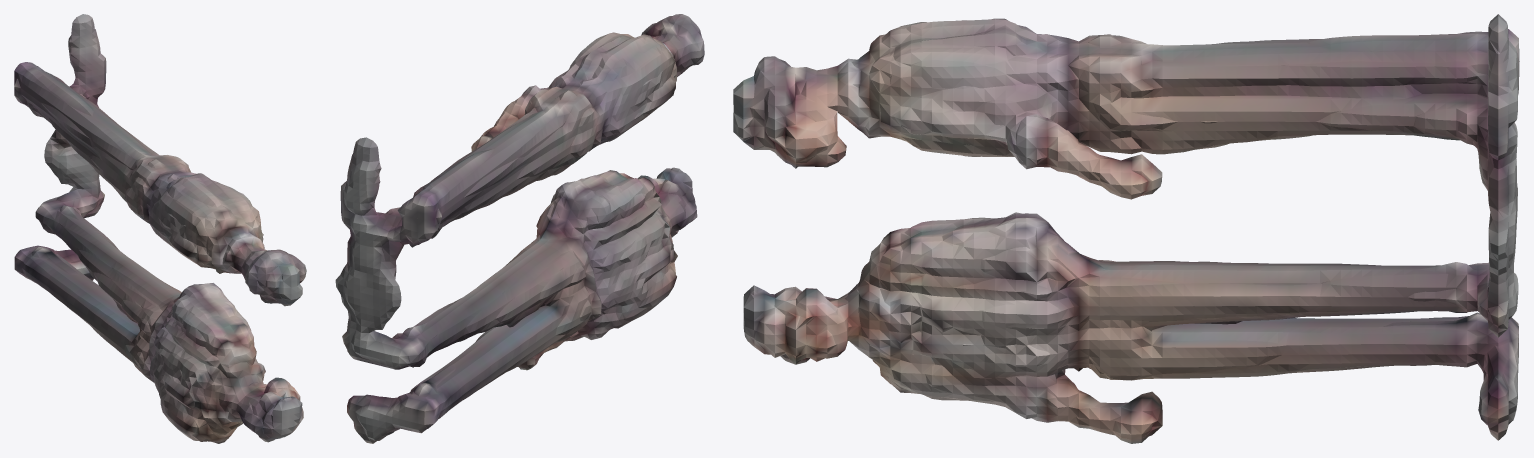
File: modern_commoner_m_0.glb
3 views of the same model, side by side, from view 1: azimuth 30°, elevation 25°; view 2: azimuth 150°, elevation 25°; view 3: azimuth 270°, elevation 25° (orthographic). The views are drawn at different scales.
Parts seen in each view (by area): view 1: world; view 2: world; view 3: world.
Part boxes in pixels (<box>): world: <box>14,14,306,443</box>; world: <box>335,14,704,443</box>; world: <box>733,14,1519,443</box>.
Bounding box in the file's own units: 0.2687 × 0.6425 × 1.03.
